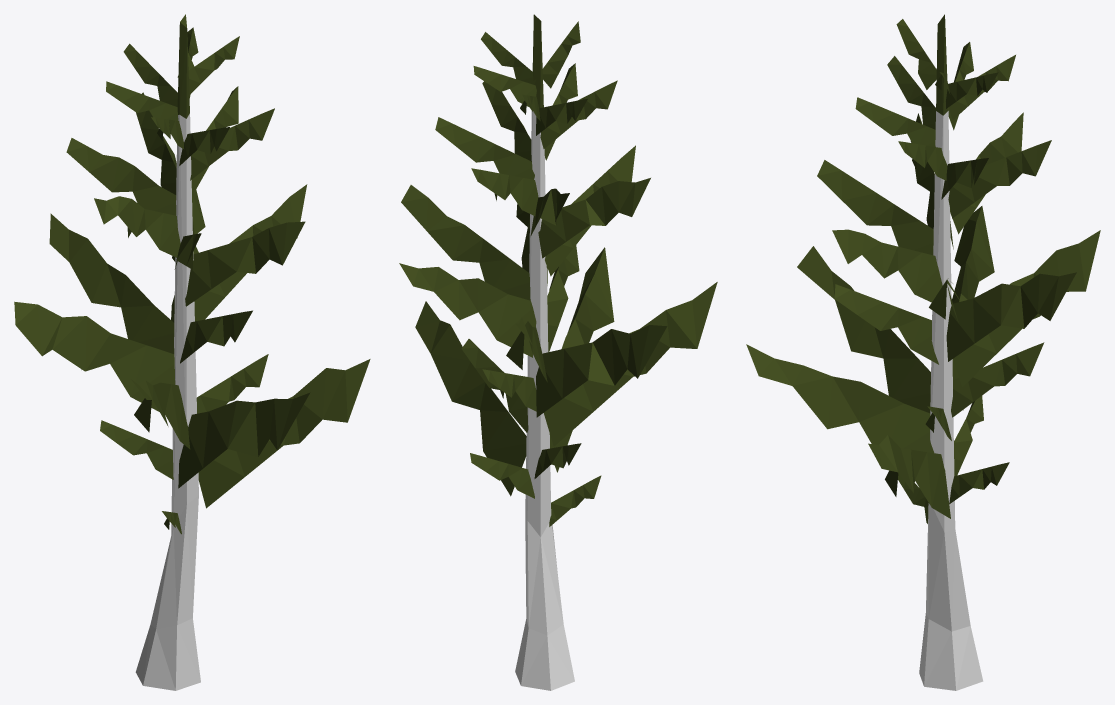
Rendered from tree-spruce-sapling-a.gltf.
3 views of the same model, side by side, from view 1: azimuth 30°, elevation 25°; view 2: azimuth 150°, elevation 25°; view 3: azimuth 270°, elevation 25° (orthographic). The views are drawn at different scales.
Parts seen in each view (by area): view 1: tree-spruce-sapling-a; view 2: tree-spruce-sapling-a; view 3: tree-spruce-sapling-a.
Part boxes in pixels (x1,y1,x2,y2): tree-spruce-sapling-a: (14, 14, 370, 690); tree-spruce-sapling-a: (399, 14, 717, 690); tree-spruce-sapling-a: (746, 14, 1100, 690).
Size of the model in its own units: 0.00746 by 0.0152 by 0.00728.
